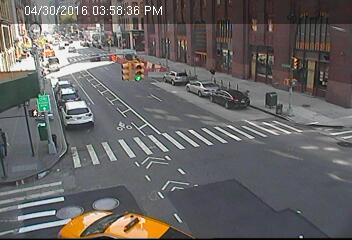neg: (306, 51, 323, 75), (278, 92, 294, 114)
pos: (206, 64, 222, 86)
